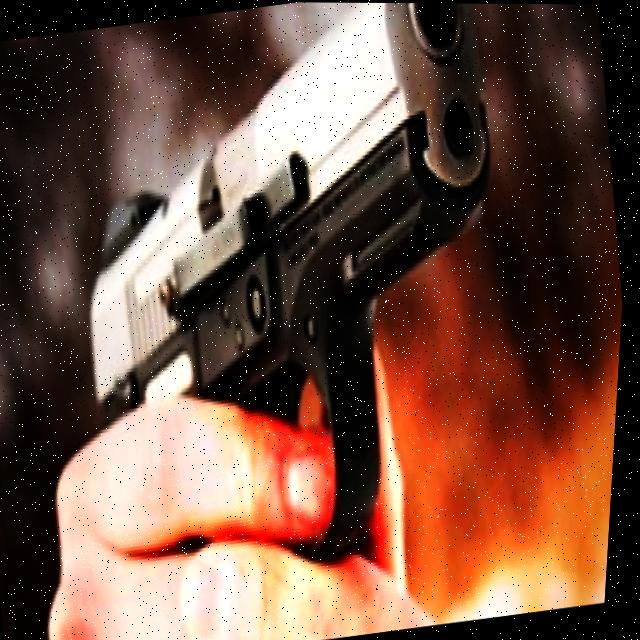pistol: (40, 0, 552, 586)
